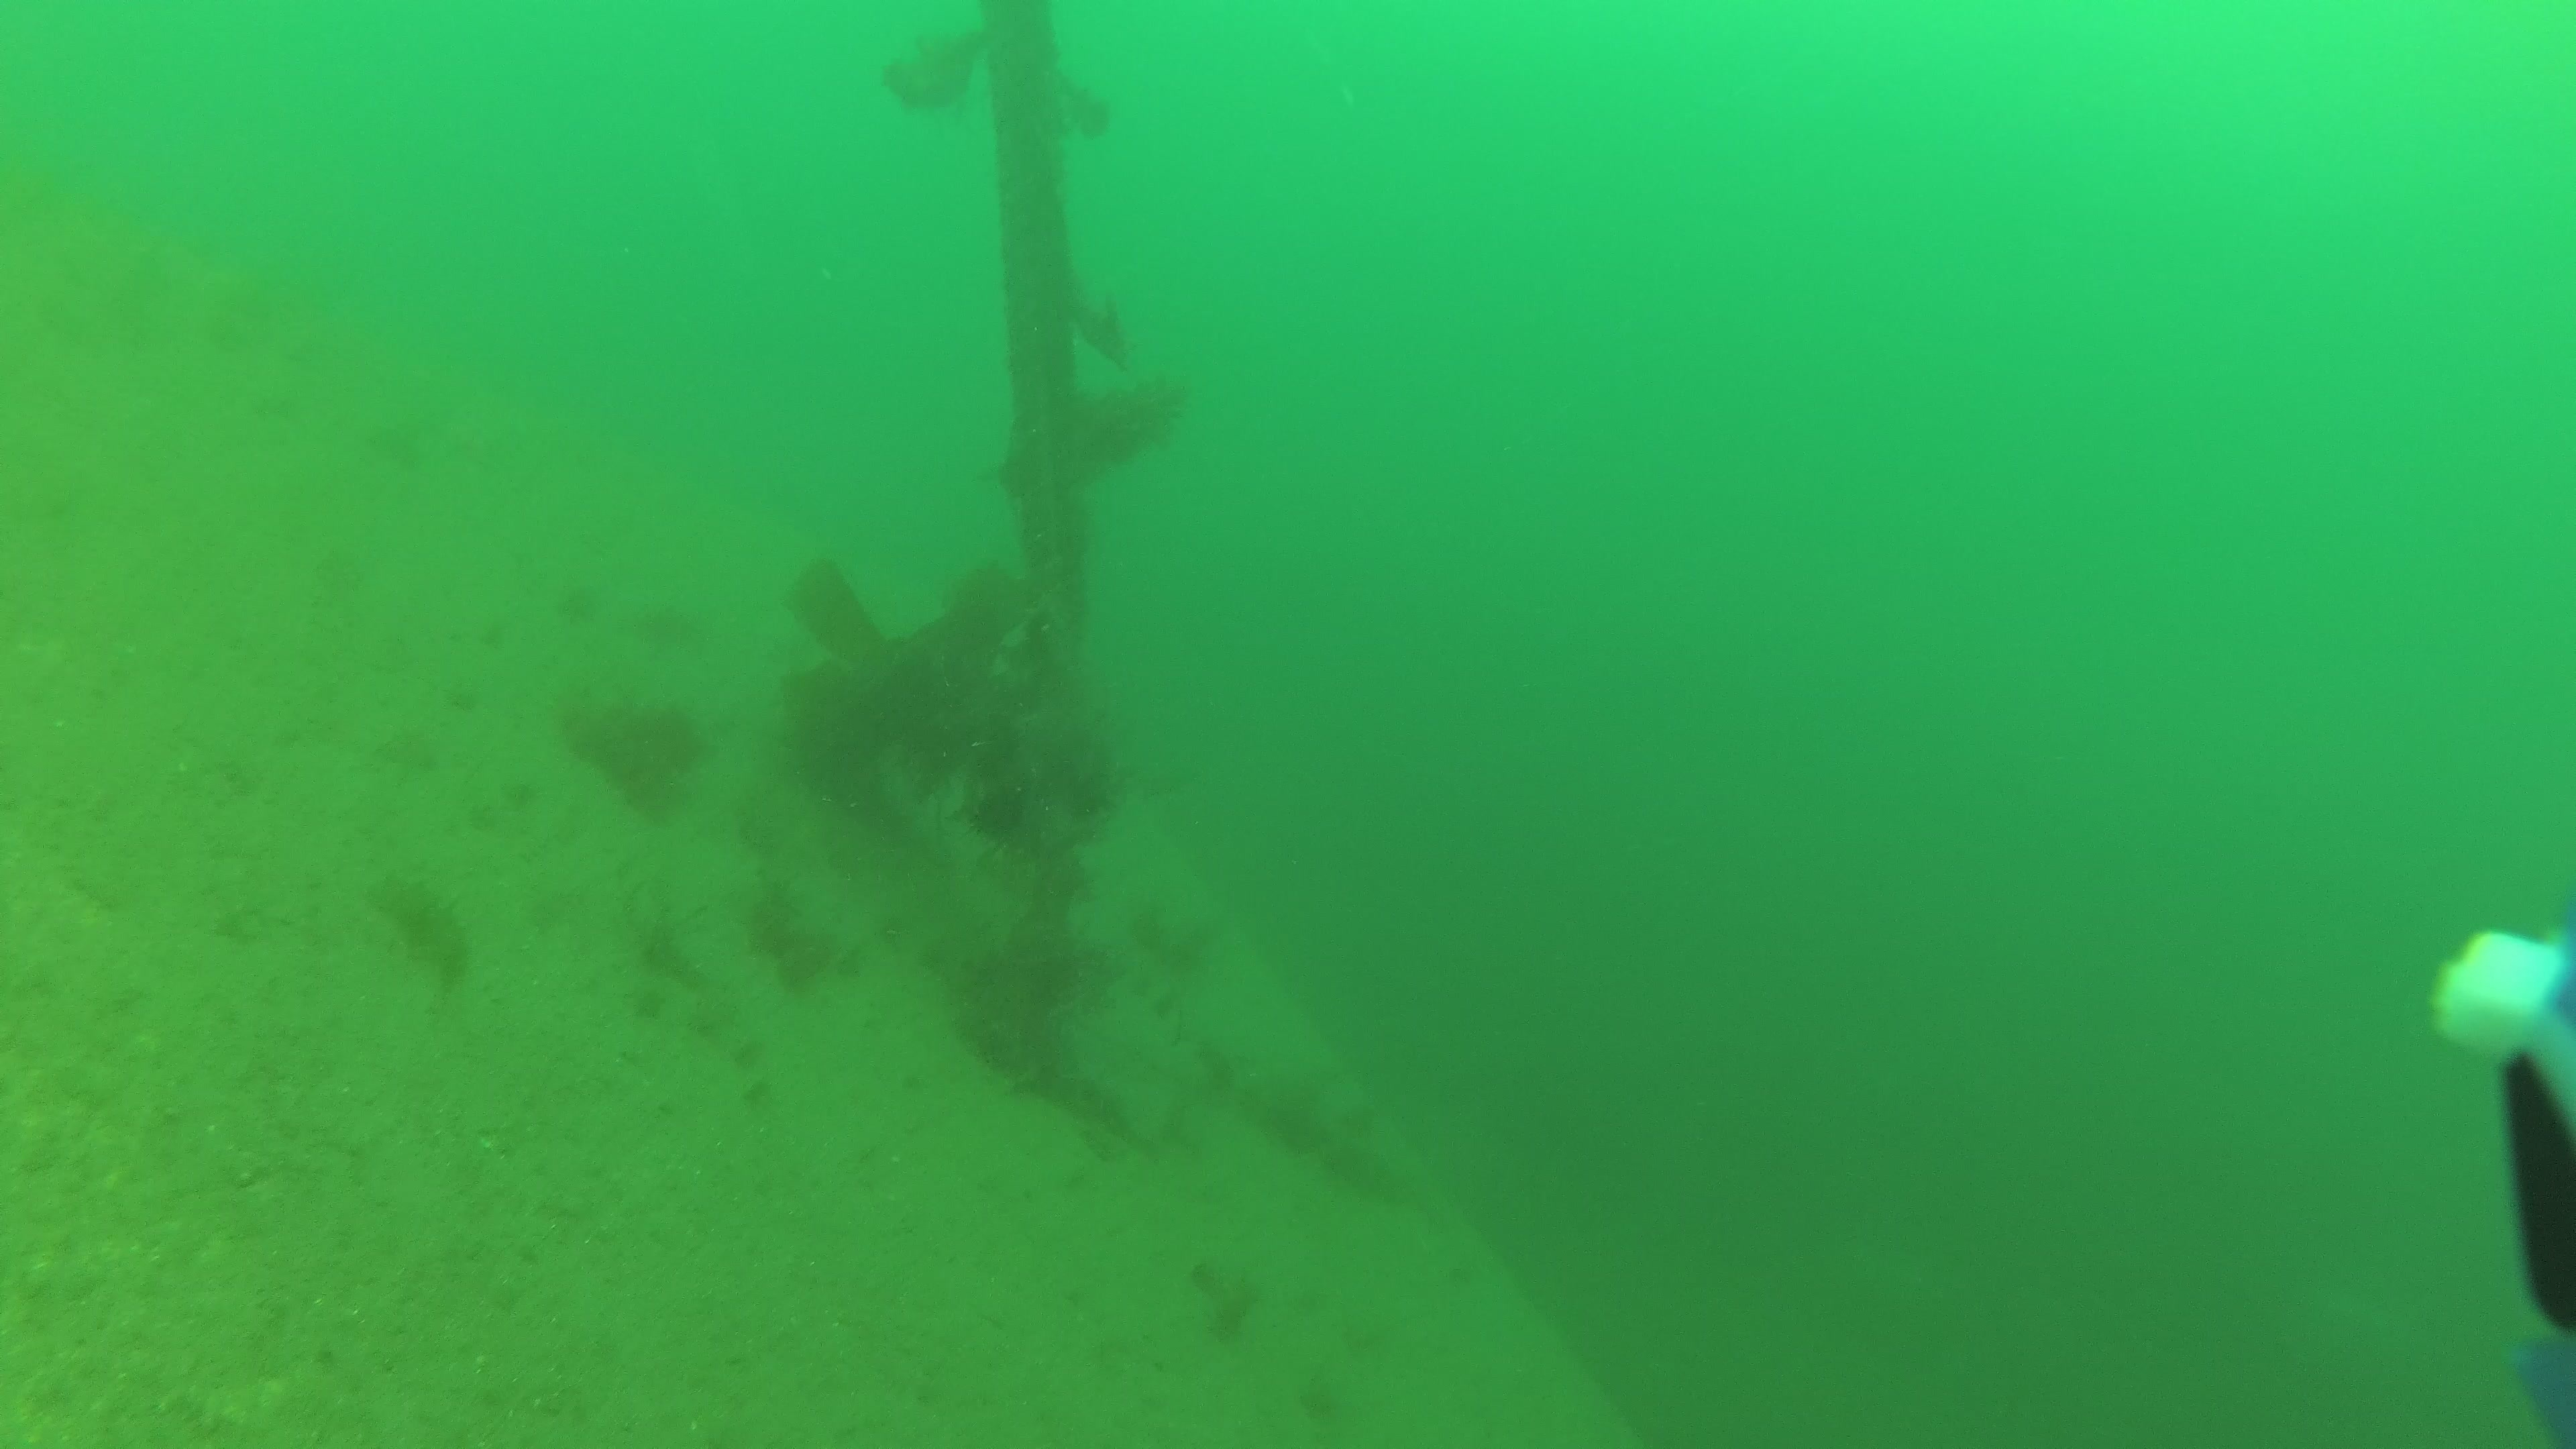echinus: (959, 780, 1031, 839)
